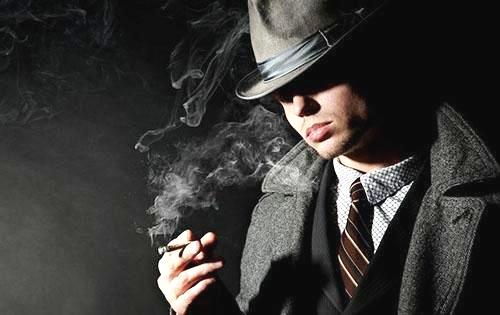smoking: (156, 237, 204, 253)
